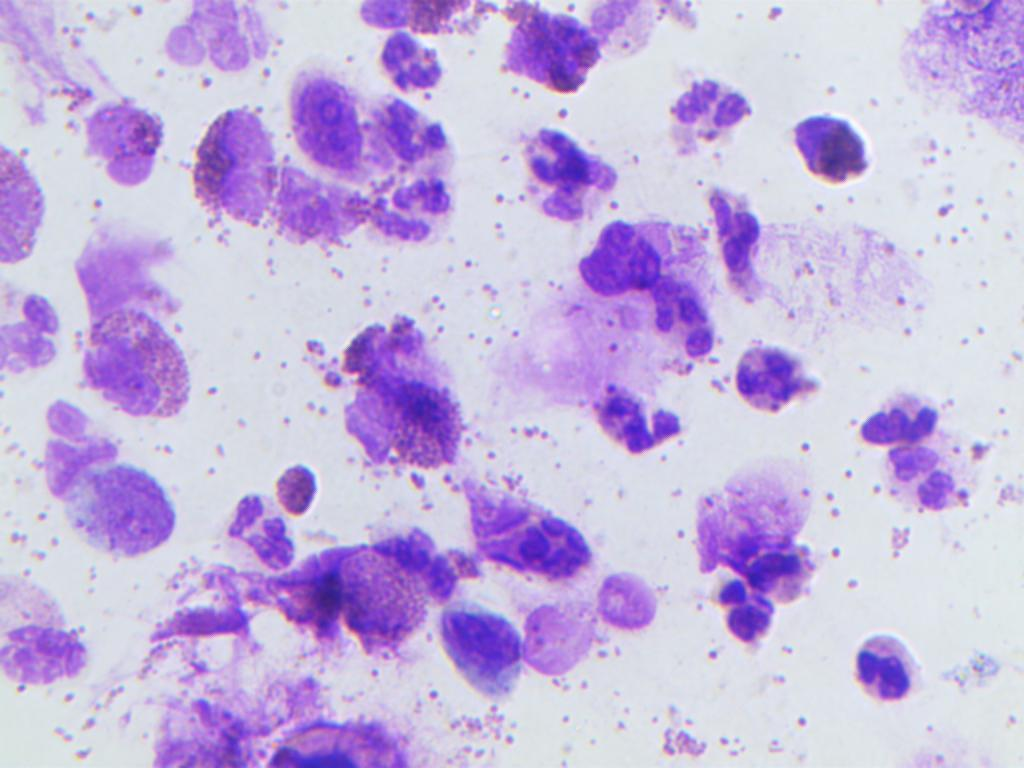artifact: (893, 0, 1024, 139), (146, 668, 261, 768), (263, 710, 412, 768), (151, 592, 259, 661), (528, 592, 599, 691), (601, 558, 659, 636), (268, 463, 327, 516)
eosinophil: (322, 302, 477, 474), (160, 101, 275, 240), (70, 301, 201, 420), (499, 1, 608, 114), (332, 544, 423, 652), (277, 162, 372, 259), (781, 105, 882, 196), (83, 94, 169, 197), (1, 123, 57, 281)
epithelial: (10, 429, 181, 562), (436, 602, 528, 698)
lymphocyte: (289, 68, 370, 178)
neutrophil: (681, 488, 838, 661), (847, 380, 985, 520), (509, 126, 630, 231), (568, 361, 692, 461), (717, 326, 835, 425), (818, 619, 936, 718), (469, 495, 594, 583), (633, 268, 724, 376), (0, 609, 91, 716), (359, 170, 459, 267), (697, 172, 773, 296), (159, 0, 286, 71), (360, 98, 473, 176), (662, 72, 759, 152), (580, 213, 671, 293), (226, 484, 293, 576), (373, 32, 450, 89)
